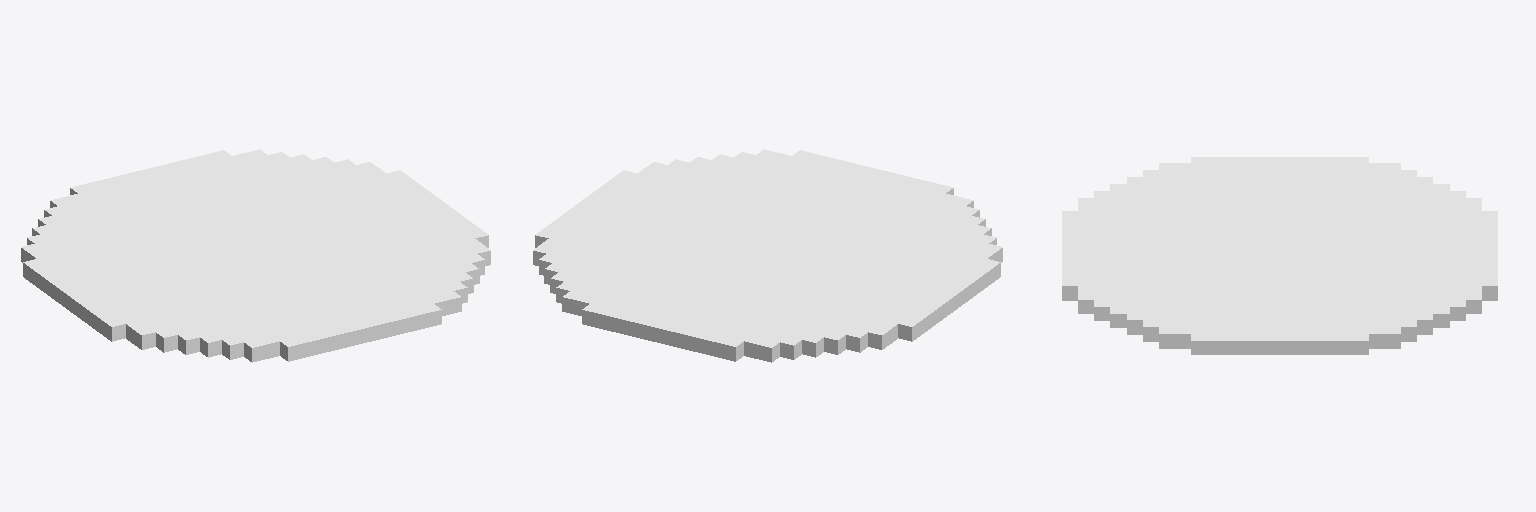
The model's file is onion.obj.
3 views of the same model, side by side, from view 1: azimuth 30°, elevation 25°; view 2: azimuth 150°, elevation 25°; view 3: azimuth 270°, elevation 25° (orthographic).
Size of the model in its own units: 27 by 1 by 27.